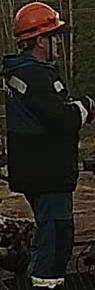gloves: (79, 94, 95, 123)
helmet: (12, 1, 65, 42)
vest: (1, 56, 81, 195)
